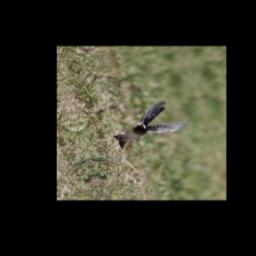Swallow: (105, 98, 192, 150)
